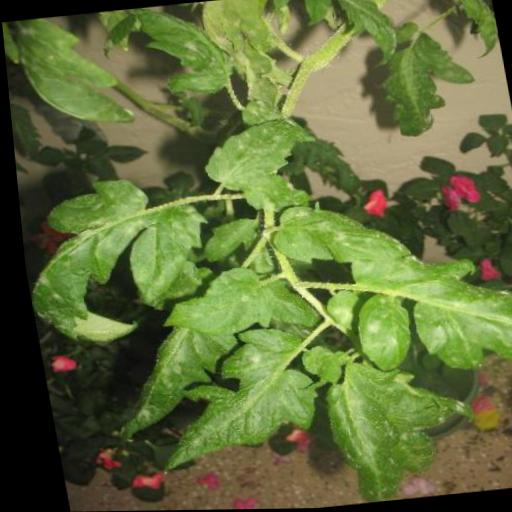Leaf Mold: (13, 166, 215, 349), (130, 321, 332, 471), (311, 362, 470, 505), (387, 238, 512, 386), (1, 11, 131, 139), (265, 194, 409, 276), (133, 0, 239, 105), (191, 116, 312, 192), (343, 289, 412, 377)
